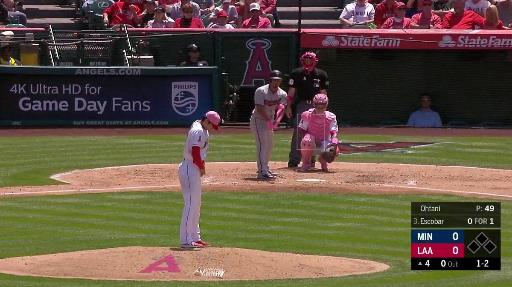pitcher: (179, 110, 227, 249)
